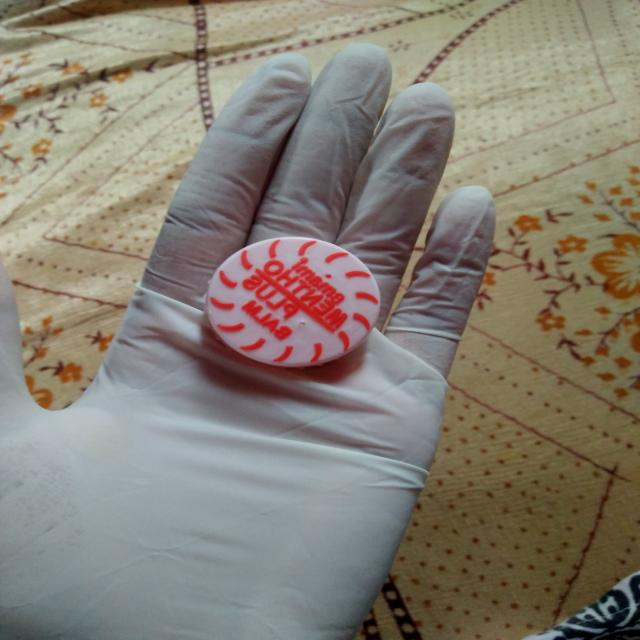glove: (2, 39, 507, 639)
